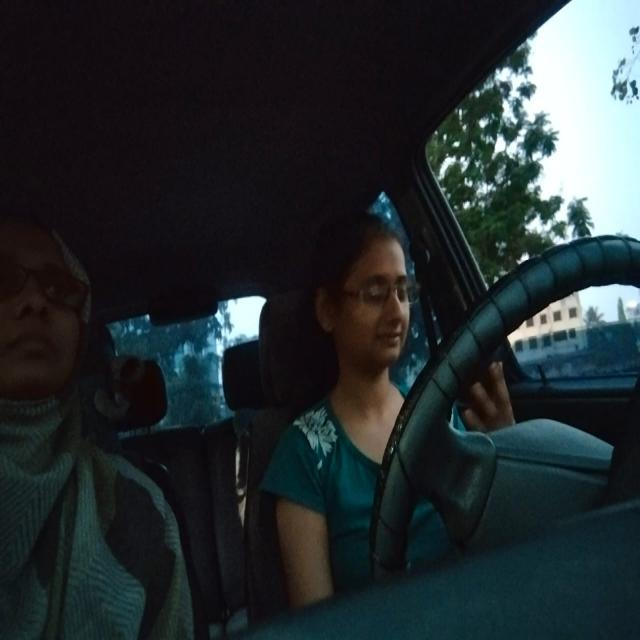mobile: (452, 322, 516, 417)
person: (0, 218, 88, 406), (315, 227, 412, 358)
